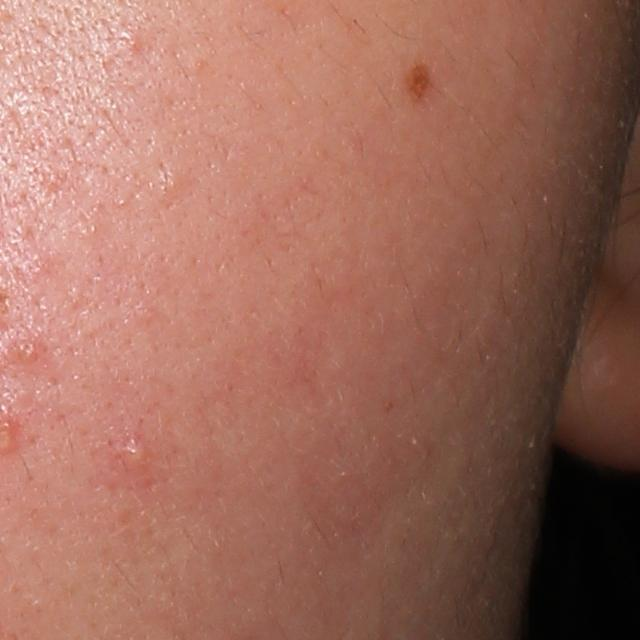comedo: (156, 167, 188, 205)
nevus: (405, 60, 437, 106)
pustule: (116, 436, 152, 471)
